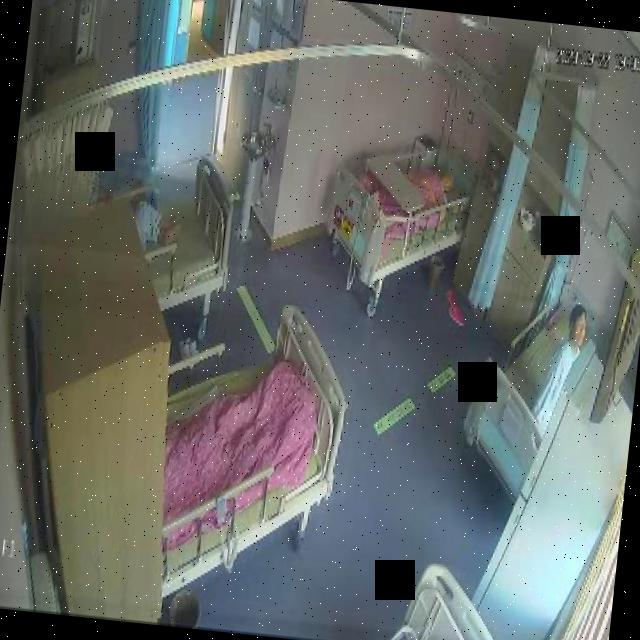bed: (146, 300, 350, 608), (457, 276, 594, 508), (322, 132, 478, 294), (130, 148, 241, 314)
patient: (526, 302, 590, 438)
sit: (527, 303, 590, 437)
